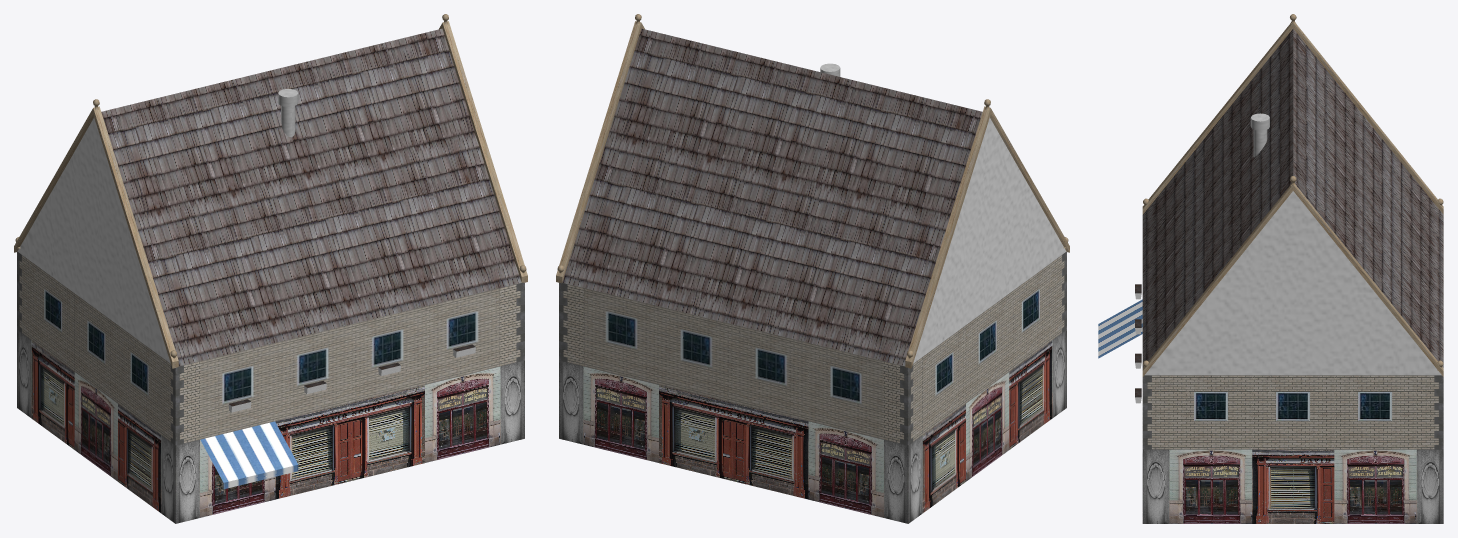
Rendered from House_001.dae.
The picture shows the model from 3 angles, left to right: view 1: azimuth 30°, elevation 25°; view 2: azimuth 150°, elevation 25°; view 3: azimuth 270°, elevation 25°; orthographic projection. The views are drawn at different scales.
Visible parts, largest first — view 1: House_001; view 2: House_001; view 3: House_001.
Boxes of the visible parts, x1=… form: House_001: x1=14, y1=14, x2=527, y2=523; House_001: x1=556, y1=14, x2=1069, y2=523; House_001: x1=1098, y1=14, x2=1443, y2=523.
Size of the model in its own units: 114 by 101 by 112.
